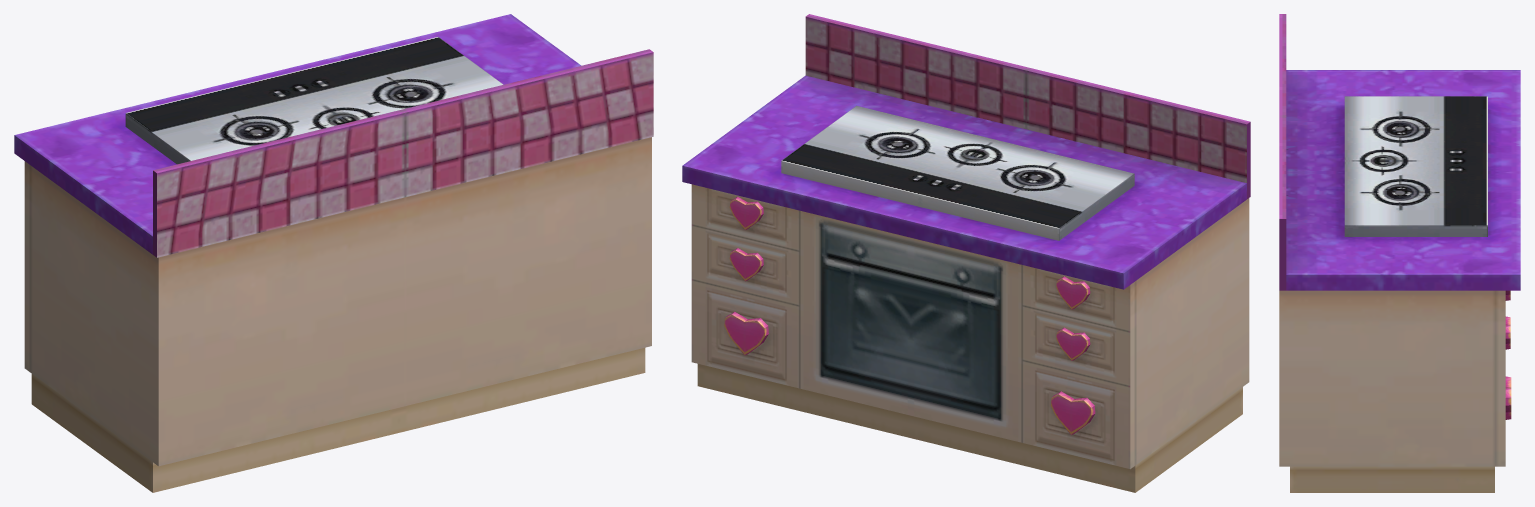
The model's file is furni_0200018_01.FBX.
3 views of the same model, side by side, from view 1: azimuth 30°, elevation 25°; view 2: azimuth 150°, elevation 25°; view 3: azimuth 270°, elevation 25° (orthographic). The views are drawn at different scales.
Visible parts, largest first — view 1: furni_0200018_01; view 2: furni_0200018_01; view 3: furni_0200018_01.
Part boxes in pixels (x1,y1,x2,y2): furni_0200018_01: (14, 14, 653, 492); furni_0200018_01: (682, 14, 1250, 492); furni_0200018_01: (1279, 14, 1520, 492).
Size of the model in its own units: 161 by 100 by 80.
